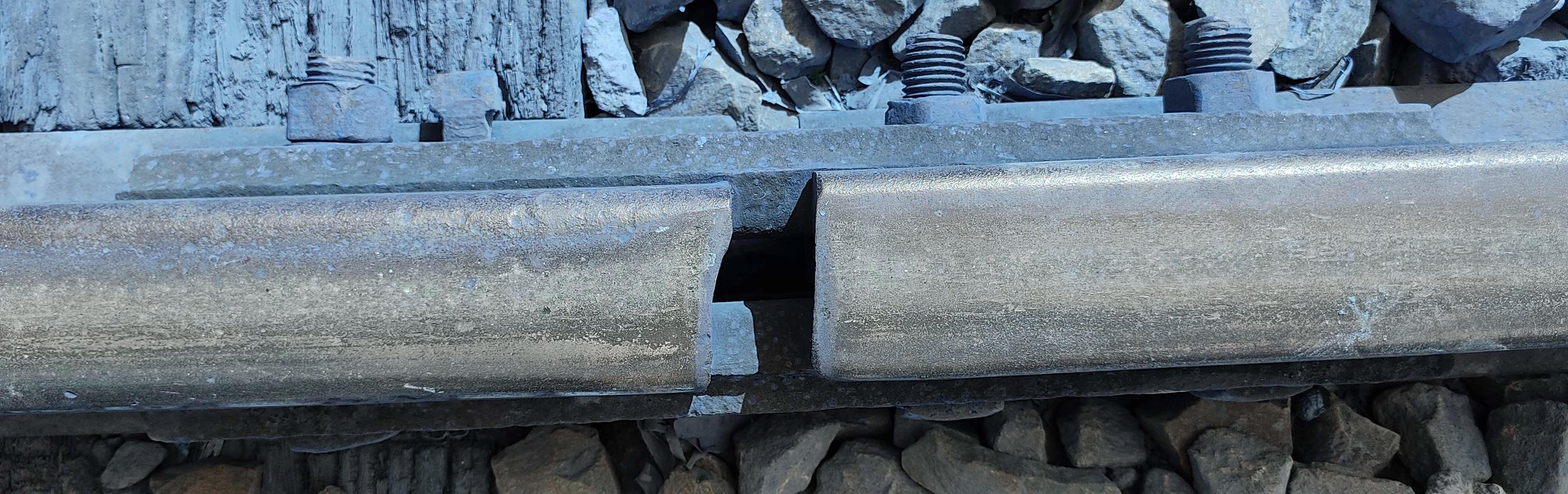duan lie: (663, 123, 861, 404)
